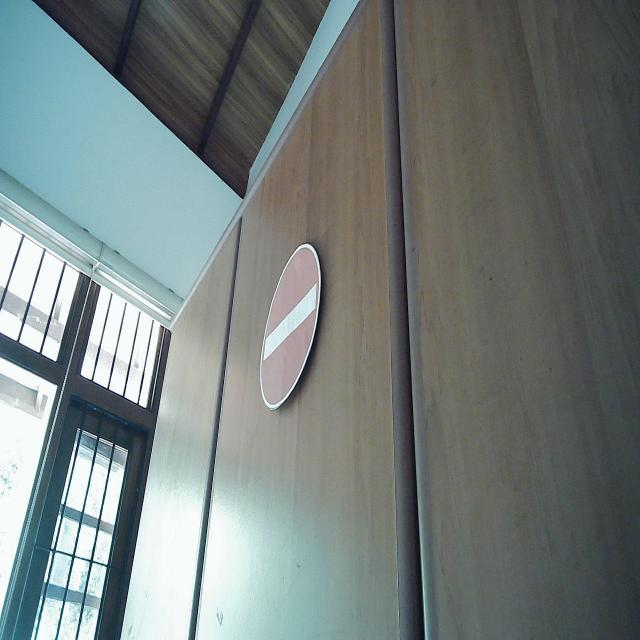no_entry: (258, 240, 324, 410)
